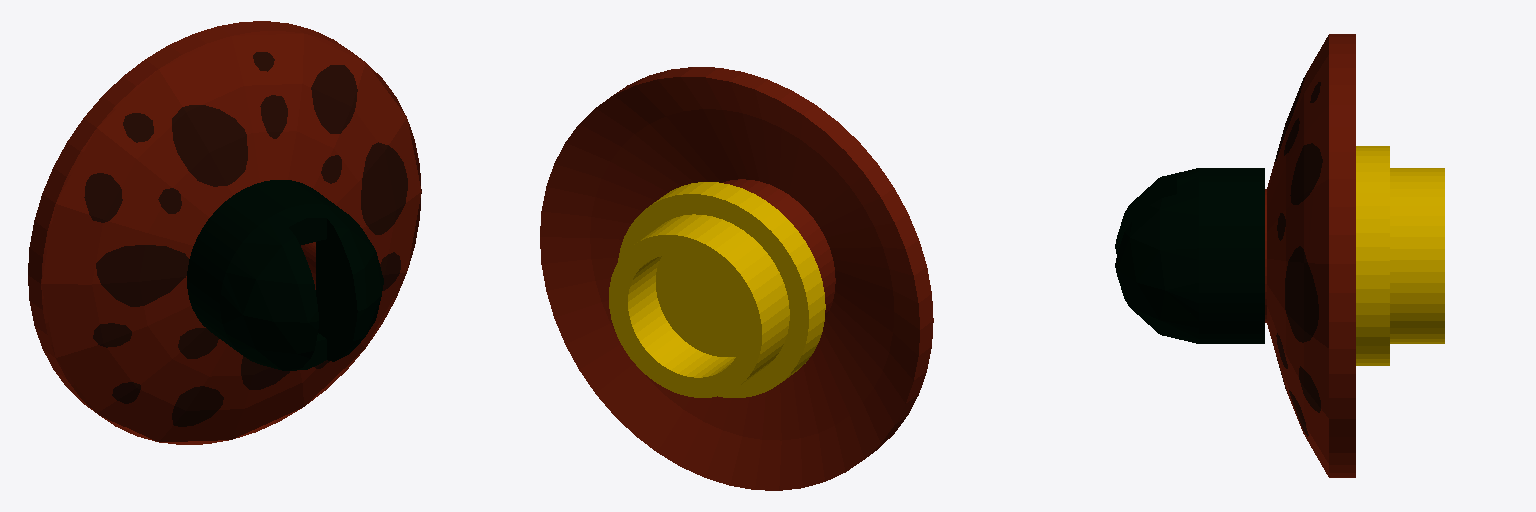
File: boss_two_part.obj
3 renders of one model, left to right at view 1: azimuth 30°, elevation 25°; view 2: azimuth 150°, elevation 25°; view 3: azimuth 270°, elevation 25°, orthographic.
Parts seen in each view (by area): view 1: Inner-Node-enemy__two_dot_io-0.001; view 2: Inner-Node-enemy__two_dot_io-0.001; view 3: Inner-Node-enemy__two_dot_io-0.001.
Boxes of the visible parts, box(x1,y1,x2,y2) form: Inner-Node-enemy__two_dot_io-0.001: box(28, 21, 421, 444); Inner-Node-enemy__two_dot_io-0.001: box(540, 67, 933, 490); Inner-Node-enemy__two_dot_io-0.001: box(1115, 34, 1444, 477).
Bounding box in the file's own units: 0.6125 × 0.6216 × 0.4603.